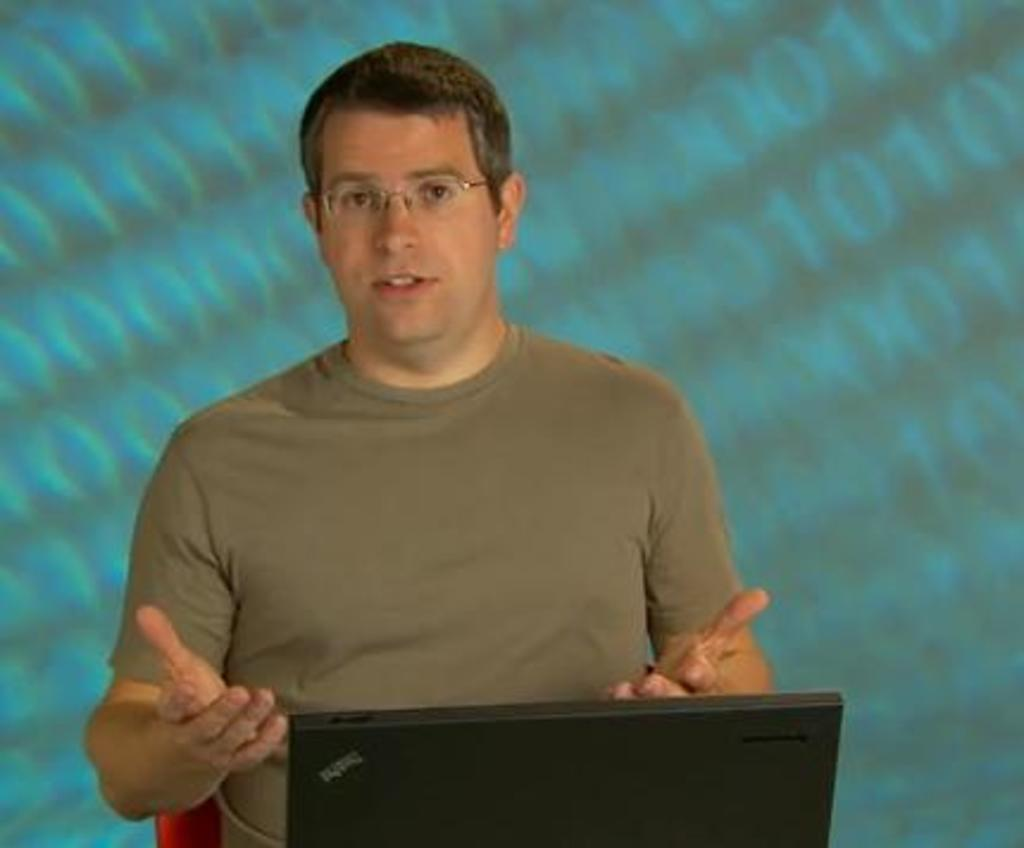face: (292, 40, 535, 405)
